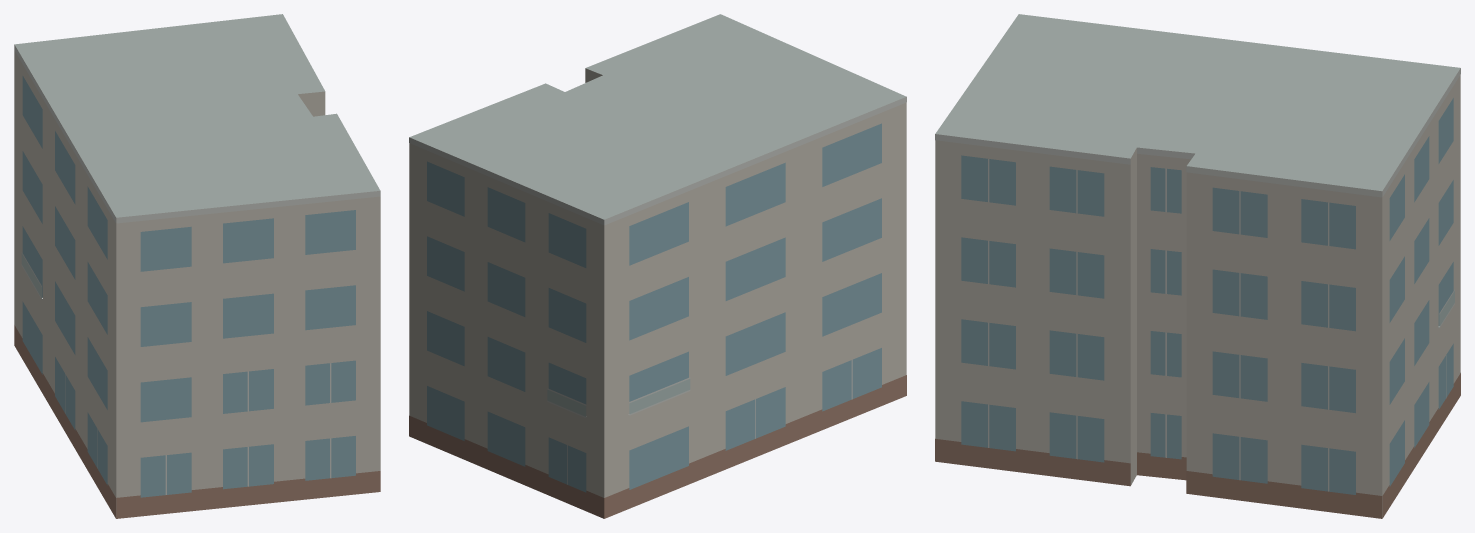
Rendered from survey-upis-32766255.glb.
3 renders of one model, left to right at view 1: azimuth 30°, elevation 25°; view 2: azimuth 150°, elevation 25°; view 3: azimuth 270°, elevation 25°, orthographic. The views are drawn at different scales.
Visible parts, largest first — view 1: survey-upis-32766255.tmp; view 2: survey-upis-32766255.tmp; view 3: survey-upis-32766255.tmp.
Part boxes in pixels (left/top/right/bottom): survey-upis-32766255.tmp: left=14, top=14, right=380, bottom=518; survey-upis-32766255.tmp: left=409, top=14, right=906, bottom=518; survey-upis-32766255.tmp: left=935, top=14, right=1460, bottom=518.
Bounding box in the file's own units: 14.86 × 12.8 × 18.62.
